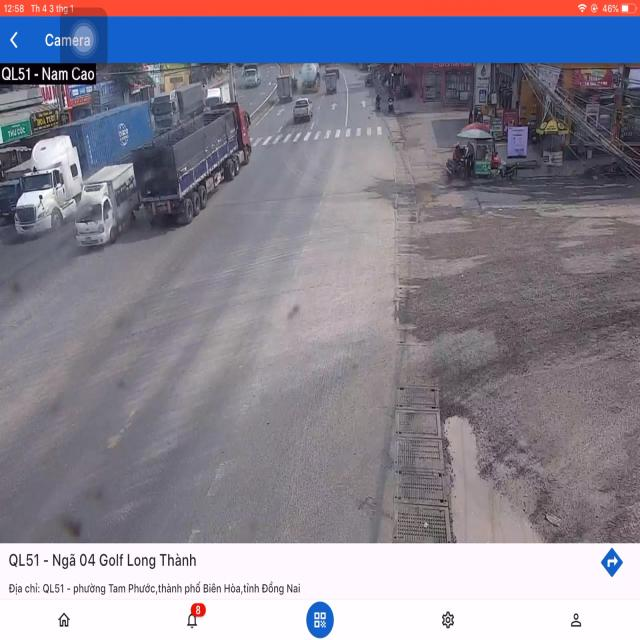car: (294, 96, 314, 125)
truck: (18, 104, 145, 214), (137, 110, 250, 221), (76, 160, 141, 249)
